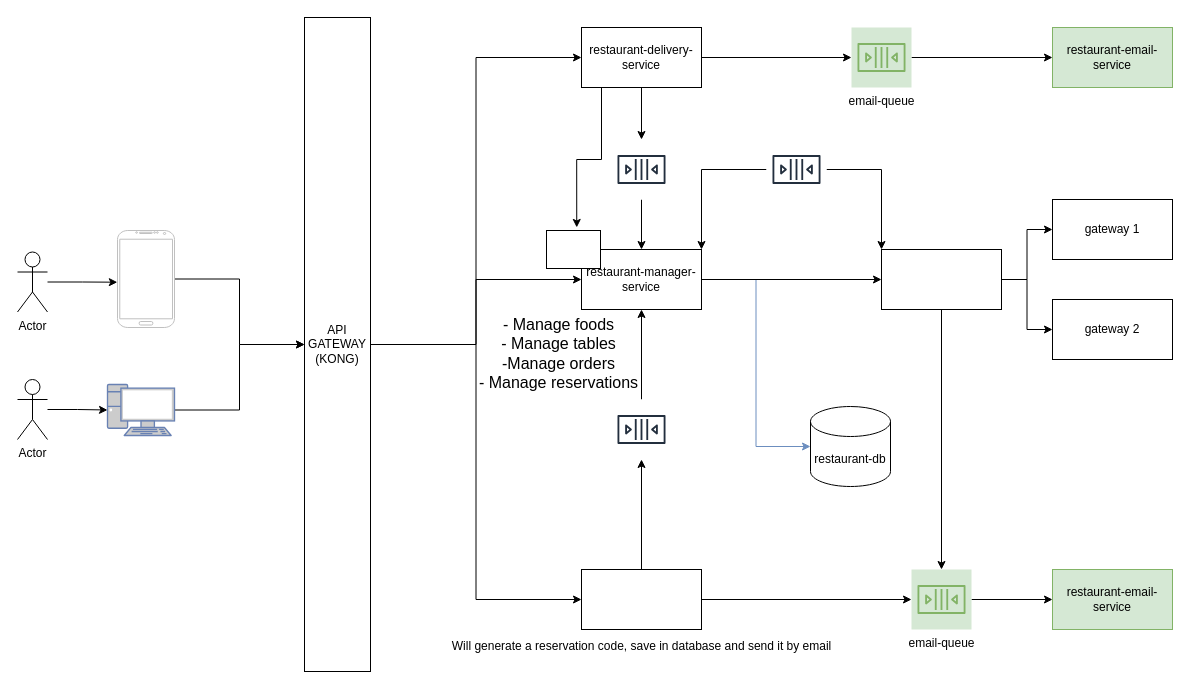
Image size: 1190x689. Some labels were removed from this diagram. The centre of each missing label's shape, as x and y in pixels:
cache (foods): the point at 573,249
delivery-order-queue: the point at 641,169
delivery-payment-queue: the point at 796,169
reservation-queue: the point at 641,429
restaurant-payment-service: the point at 941,279
restaurant-reservation-service: the point at 641,599
